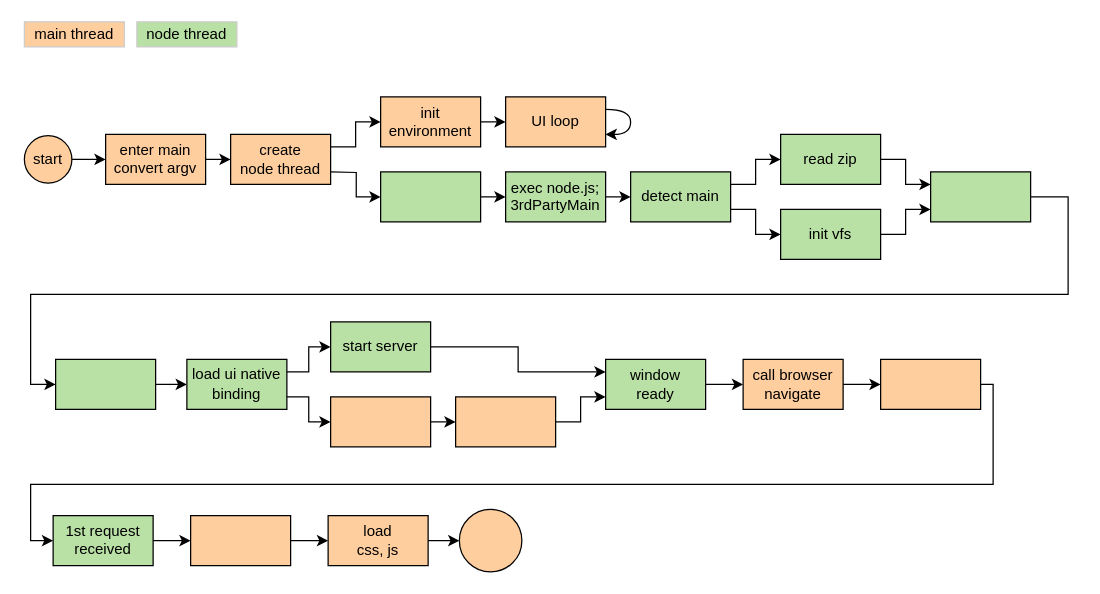
The diagram is 1100 pixels wide and 594 high, and some of its shapes have lost their labels. The centre of each missing label's shape, as x and y in pixels:
"1st request sent" goes at [930,383].
"create window" goes at [380,421].
"doc compl." goes at [490,540].
"init browser control" goes at [505,421].
"init v8" goes at [430,196].
"load index.html" goes at [240,540].
"load, exec main.js" goes at [980,196].
"load, exec ui module" goes at [105,383].
